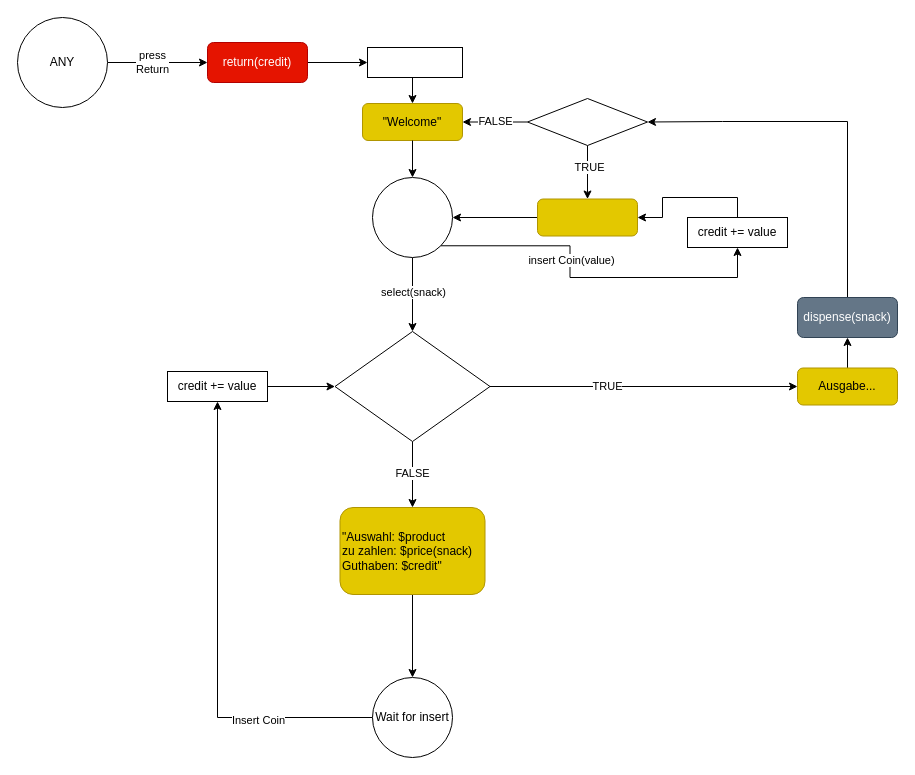
Image size: 915x775. Some labels were removed from this diagram. The centre of each missing label's shape, as x and y in pixels:
"Guthaben: $credit": [587,217]
credit = 0: [414,62]
credit > 0?: [587,122]
credit >= price(snack)?: [412,386]
init: [412,217]
